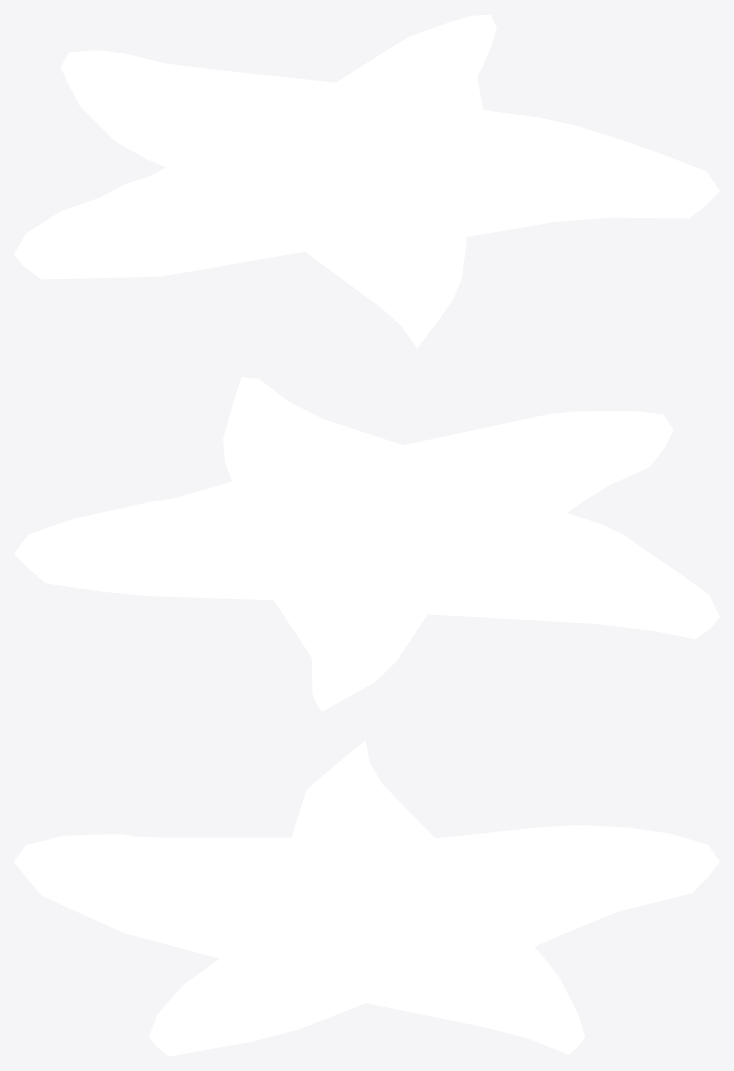
File: ster_fish.gltf
3 renders of one model, top to bottom at view 1: azimuth 30°, elevation 25°; view 2: azimuth 150°, elevation 25°; view 3: azimuth 270°, elevation 25°, orthographic. The views are drawn at different scales.
Visible parts, largest first — view 1: ster_fish; view 2: ster_fish; view 3: ster_fish.
Boxes of the visible parts, x1,y1,x2,y2 form: ster_fish: (14, 14, 719, 347); ster_fish: (14, 377, 719, 711); ster_fish: (14, 741, 719, 1056).
Size of the model in its own units: 41.4 by 6.33 by 43.53.
Materials: 1 (1 with a texture image).
